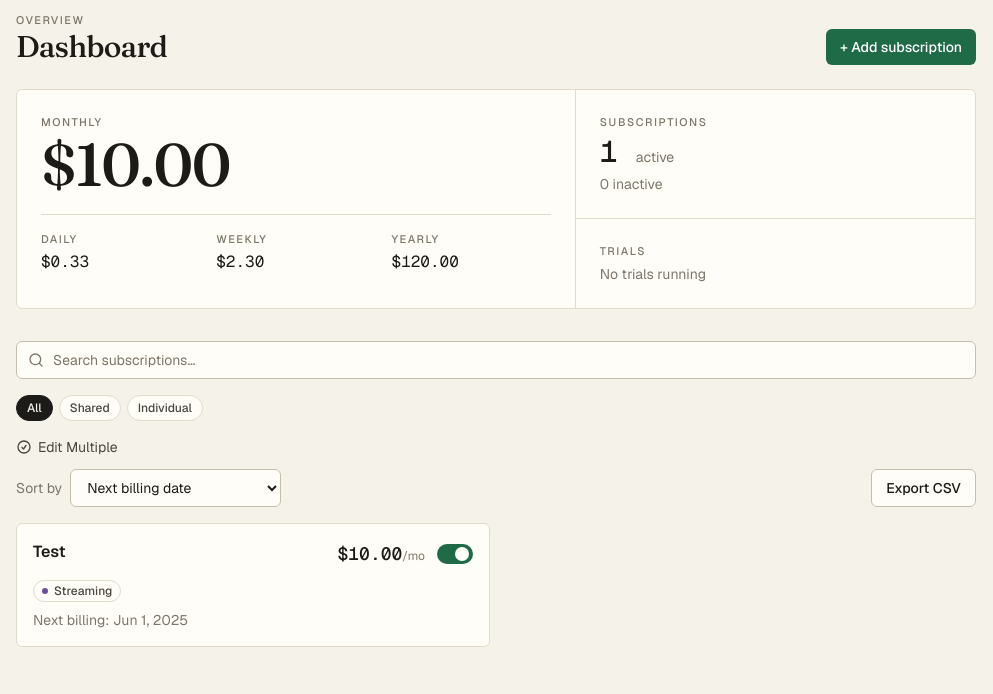
it: DashboardPage bulk edit › should enter selection mode when Edit Multiple is clicked
What coordinates should you click on to do the following:
click the button "Edit Multiple"
I would click on:
 (67, 446)
Its box is [16,436,118,456].
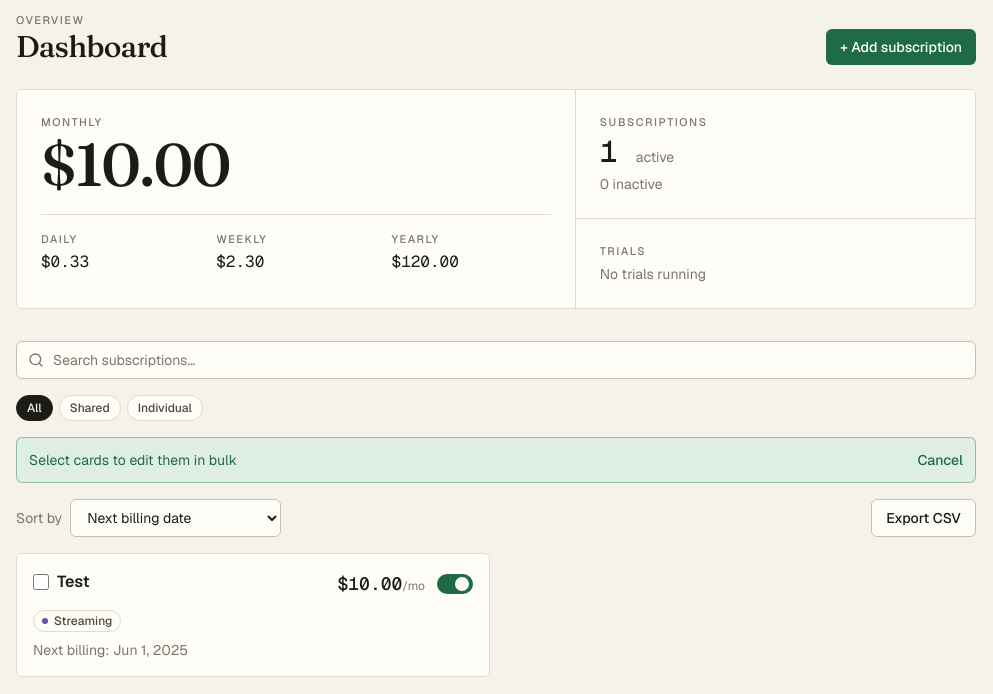
Expected: the text "Select cards to edit them in bulk" is shown, [29,450,237,470]
Expected: the button "Edit Multiple" is gone
